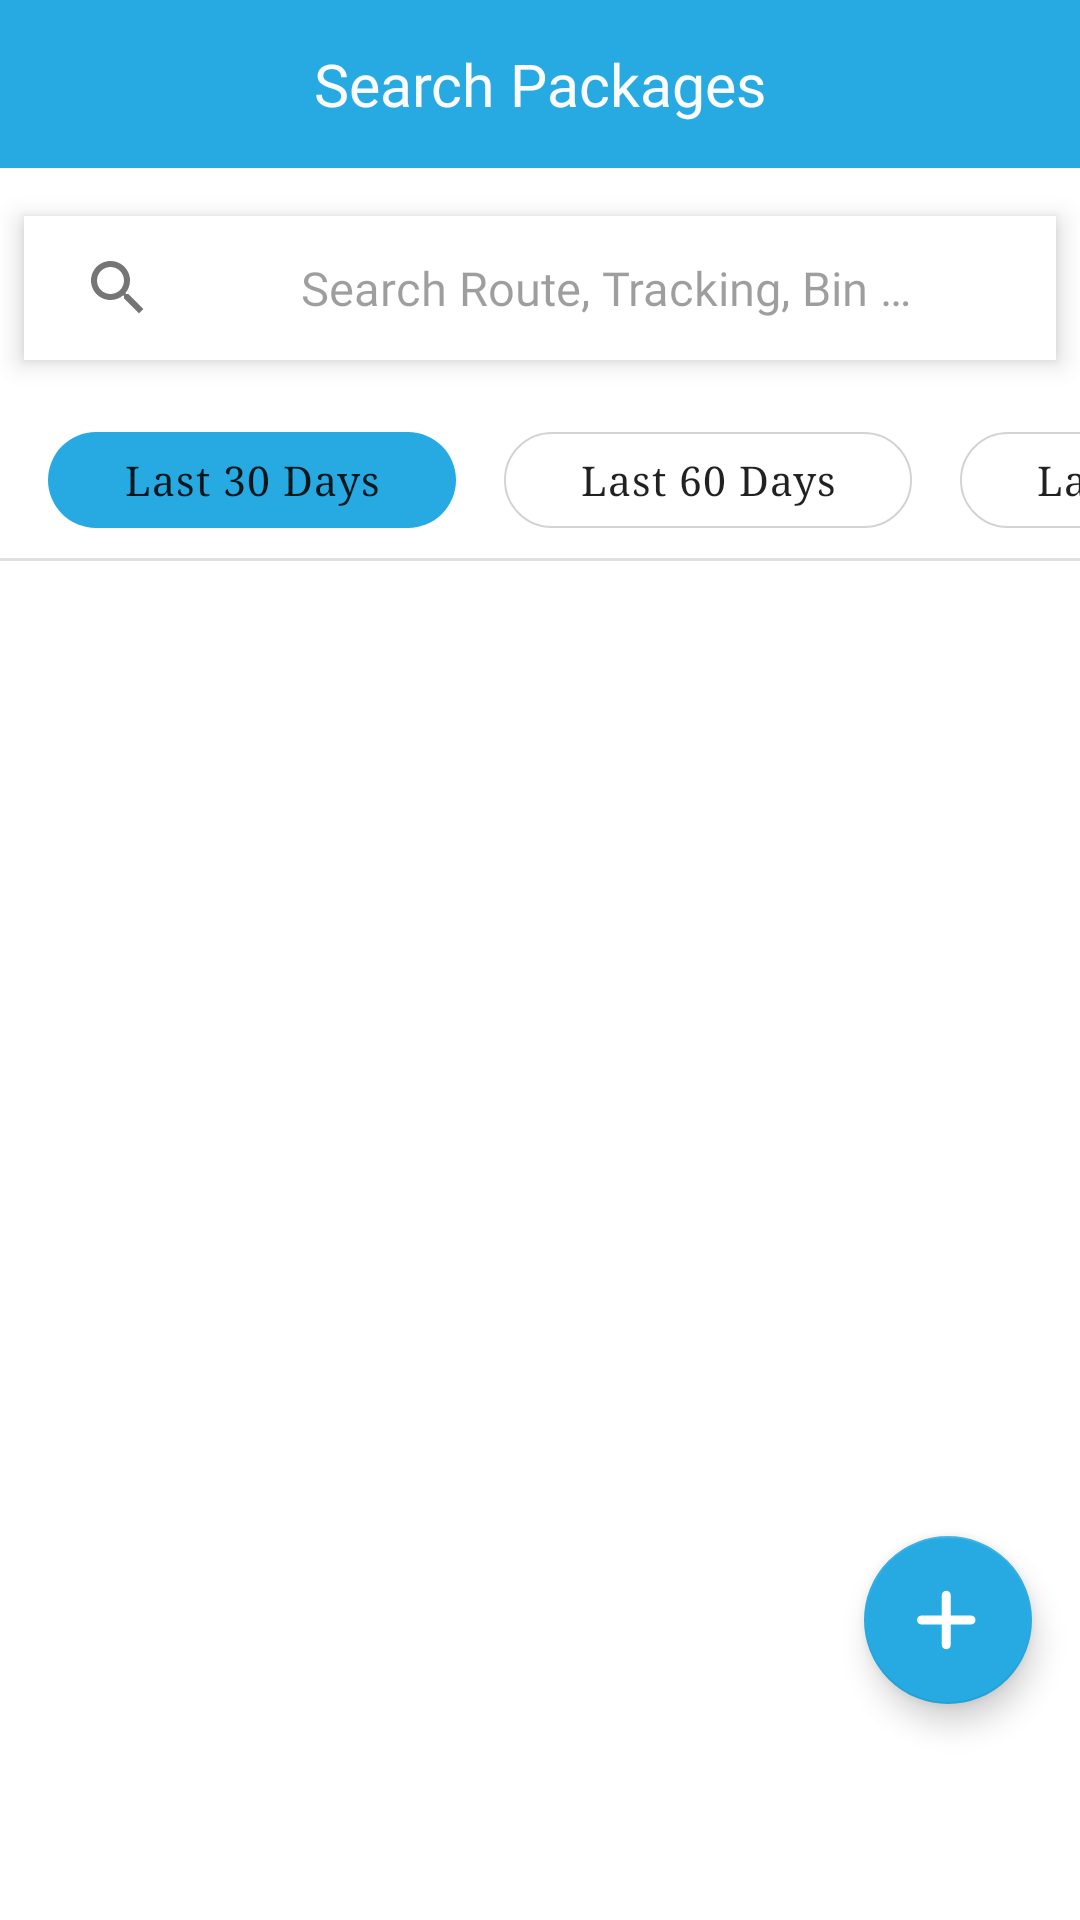

Screen size 1080w x 1920h. Icon name, then its center in pixels as (x=x, y=y):
searchactive: (x=117, y=287)
